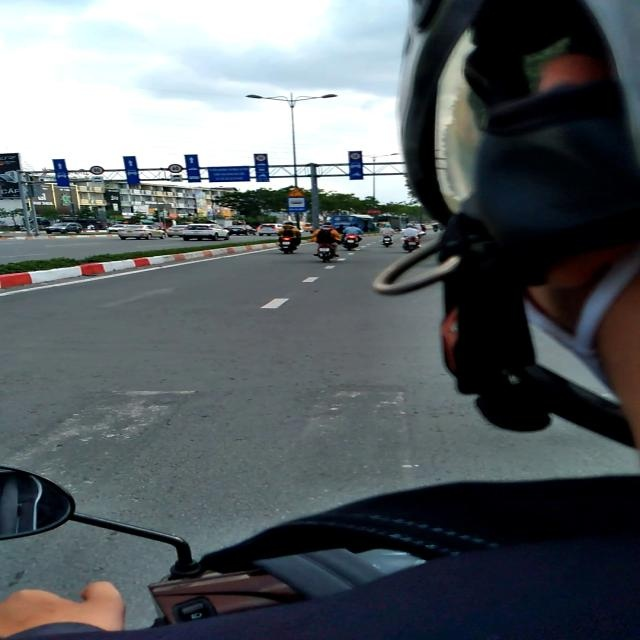bien_nguy_hiem: (287, 197, 307, 212), (89, 166, 105, 176), (168, 164, 184, 173), (288, 188, 306, 196), (255, 154, 267, 162), (349, 152, 362, 159)
